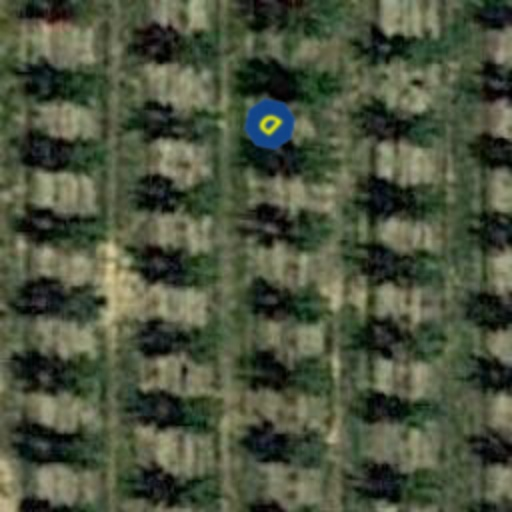octagon: (232, 86, 308, 162)
